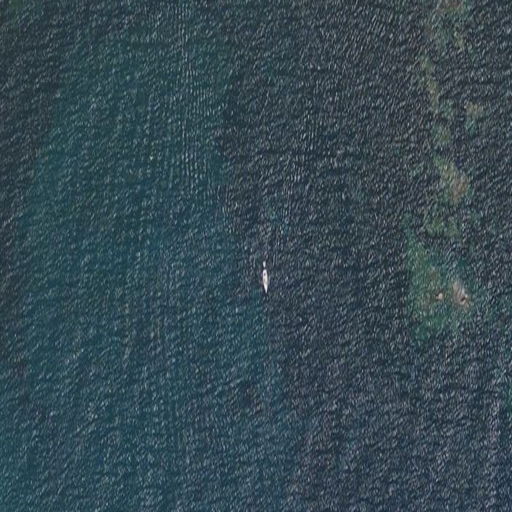ship: (260, 264, 270, 295)
